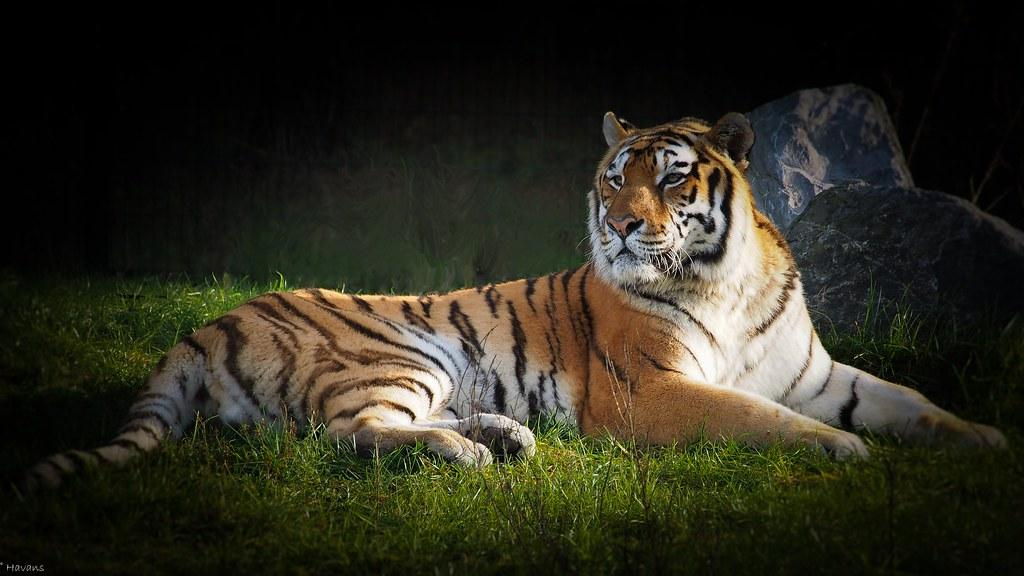tiger: (19, 109, 1012, 496)
